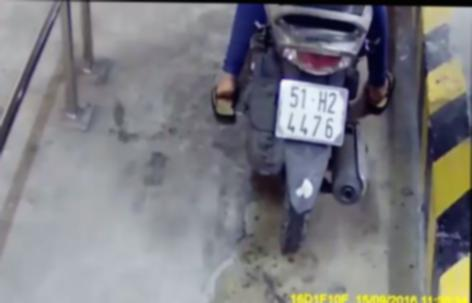License_Plate: (263, 75, 349, 150)
